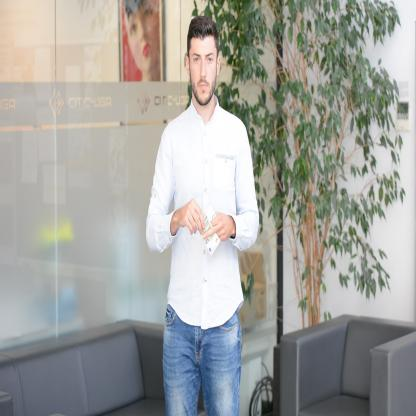billete: (197, 202, 221, 256)
